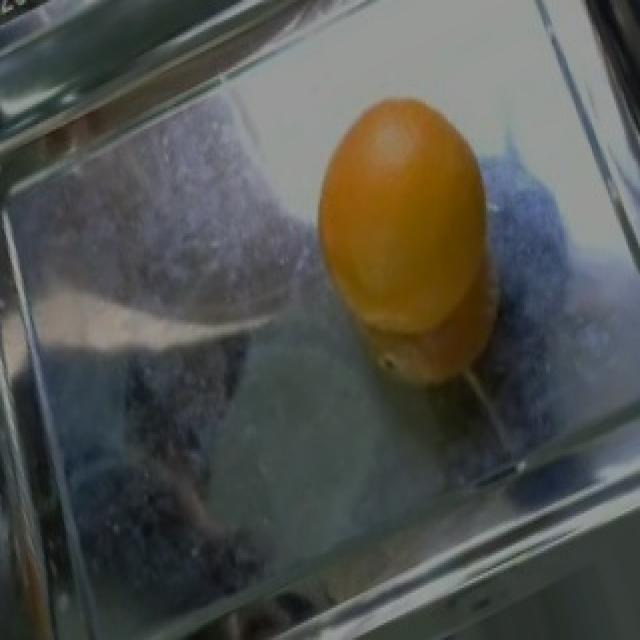Fruit: (290, 64, 524, 417)
